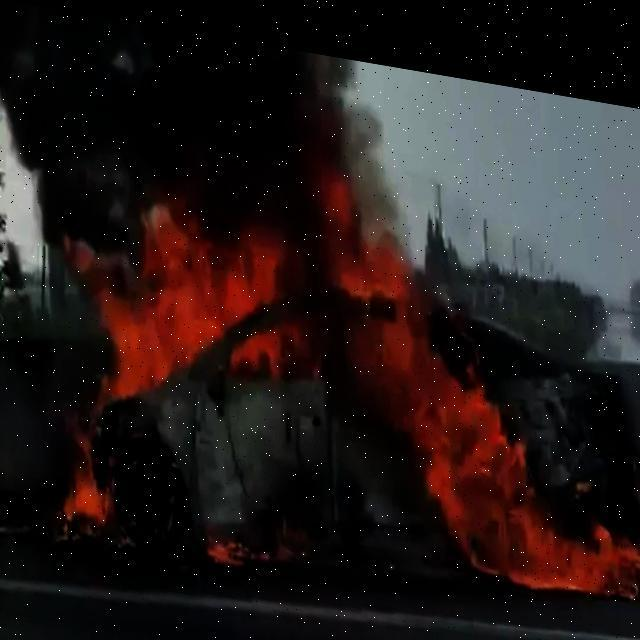Fire: (52, 142, 634, 610)
